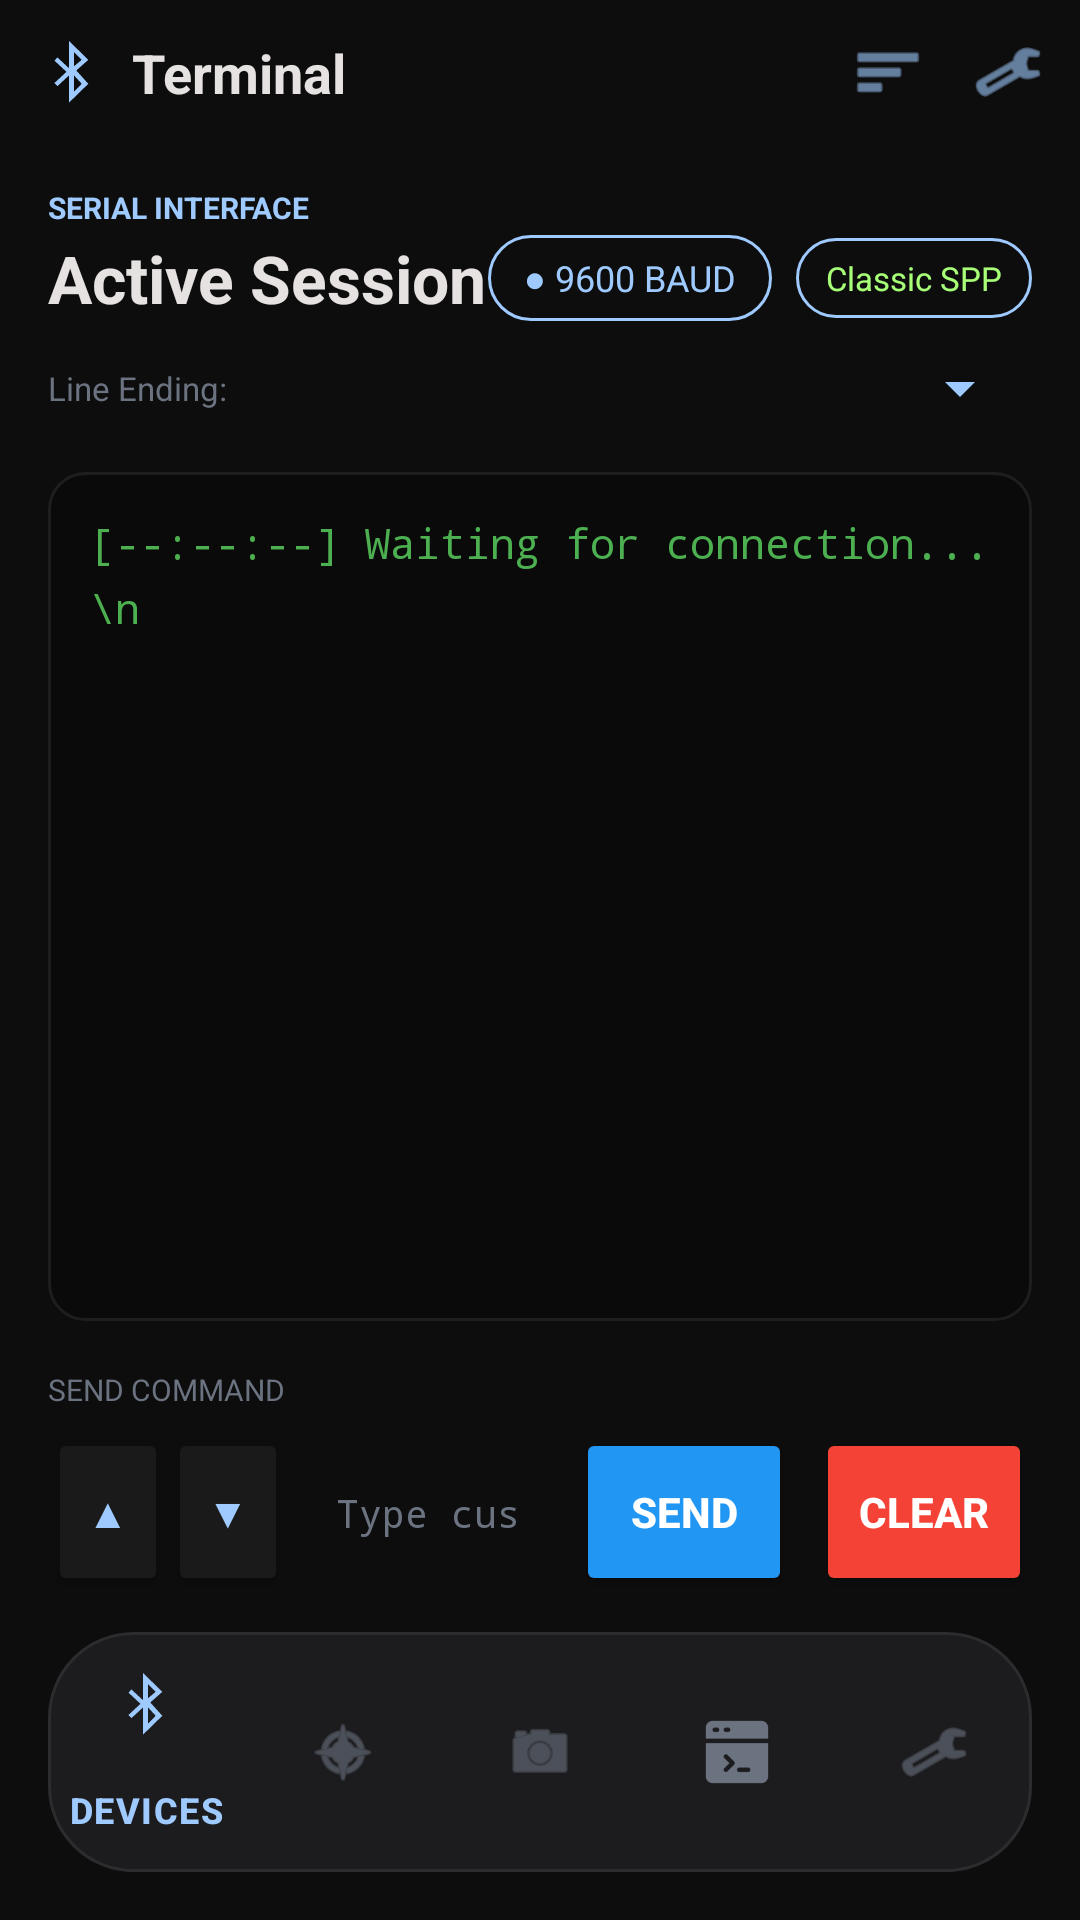

Screen size 1080px×1920px. Icon name, then its center in pixels as (x,y):
manage: (1007,72)
sort by size: (888,72)
